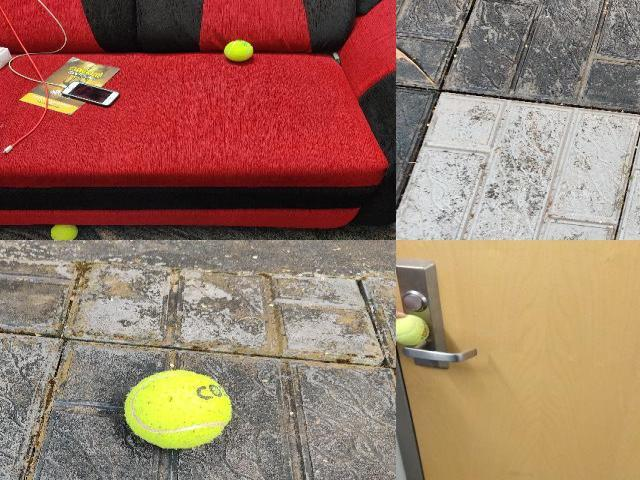tennis-ball: (123, 368, 231, 450), (396, 314, 430, 346), (224, 40, 252, 60), (50, 225, 79, 239)
